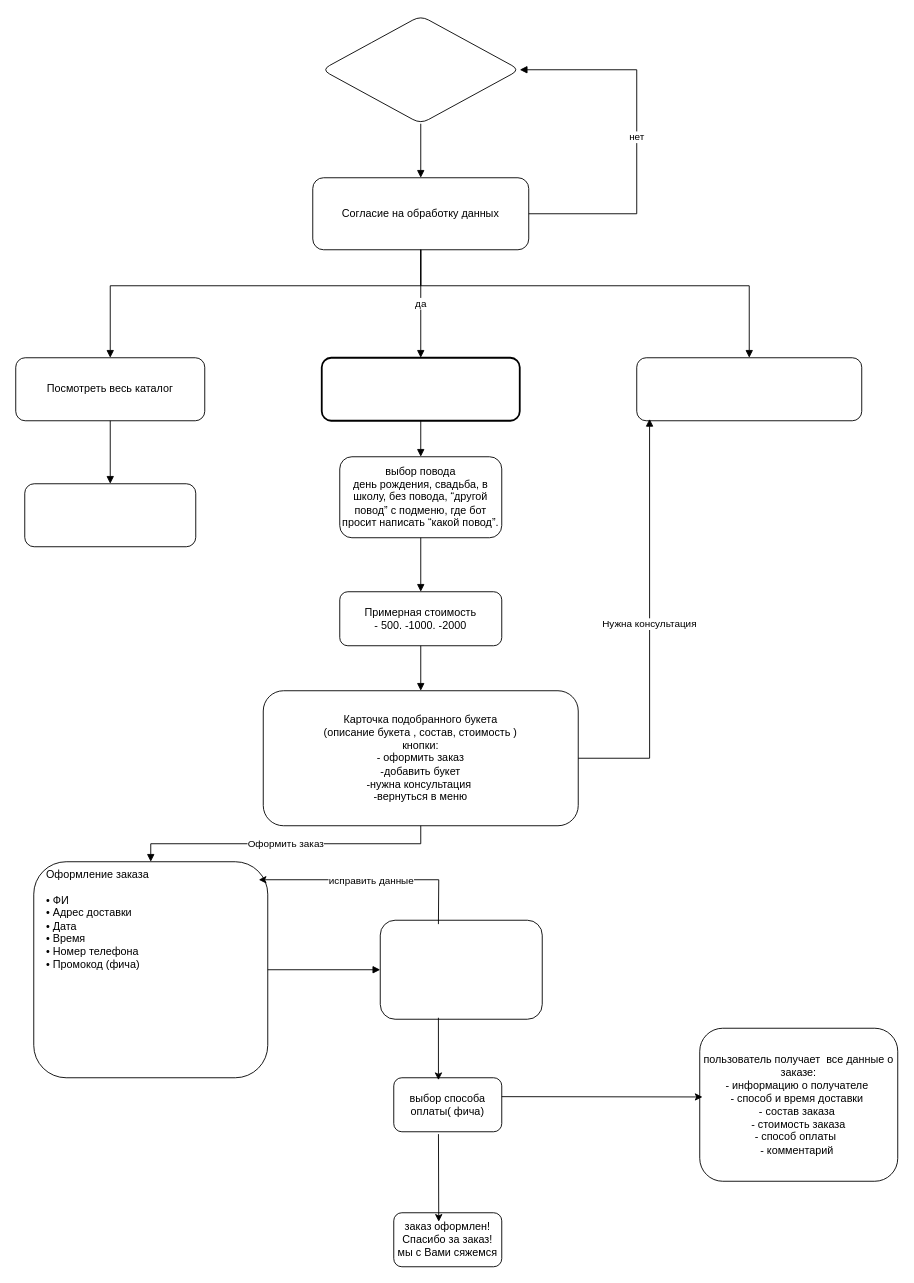
Some shapes in this 914 by 1283 pixel diagram are drawn without their labels. Here are the shapes that lost their labels. From the top down, the centre of each, then its label:
At point (420, 69): "Старт бота".
At point (420, 388): "Подобрать букет".
At point (749, 389): "Мне не нужна консультация".
At point (110, 515): "Листинг букетов".
At point (460, 969): "подтверждение заказа (показ всех данных для проверки)".
